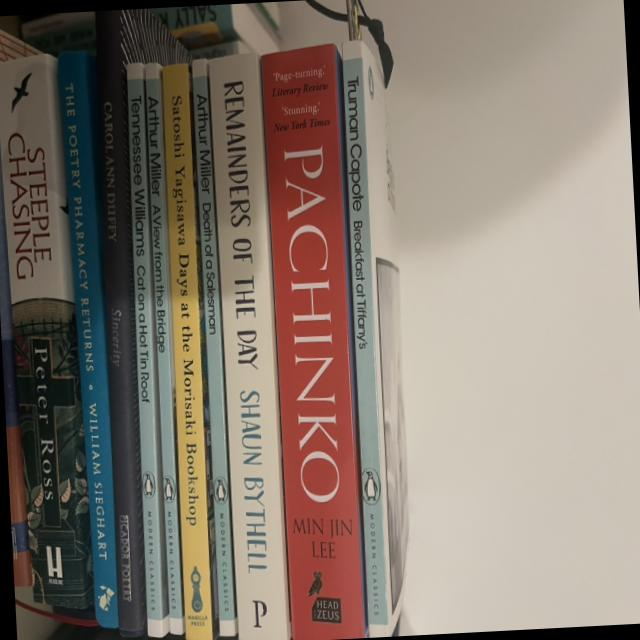book: (78, 7, 193, 638), (259, 44, 370, 640), (0, 53, 96, 613), (207, 53, 290, 640), (337, 41, 418, 636), (156, 63, 218, 640), (57, 52, 119, 629), (189, 59, 238, 637), (122, 62, 169, 638), (142, 63, 185, 637)
